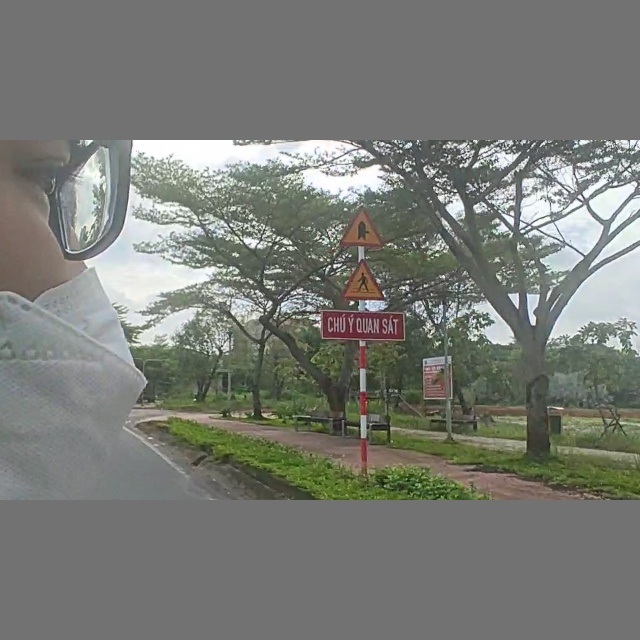W.207: (337, 204, 389, 249)
W.224: (336, 257, 391, 302)
